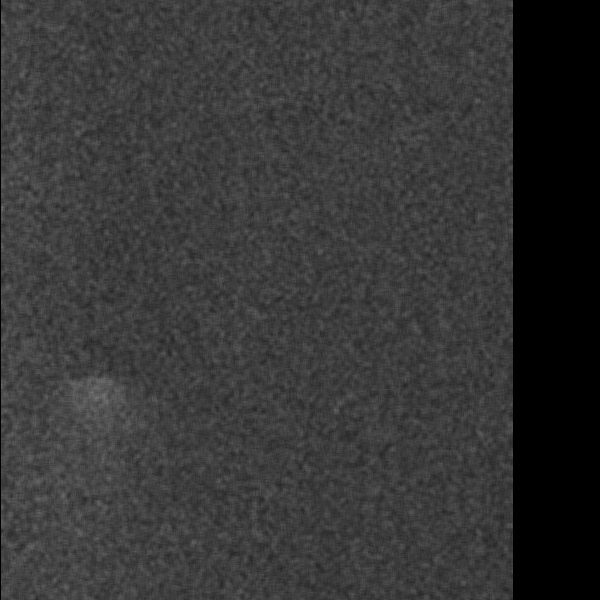spark: (331, 117, 358, 233), (464, 115, 496, 189), (328, 303, 357, 361), (333, 396, 351, 430), (233, 461, 262, 481)
